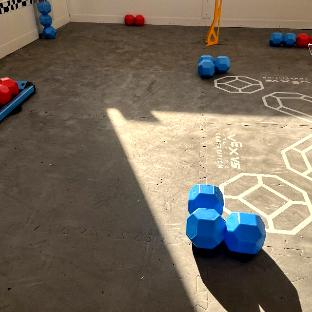V5_BLUE: (187, 208, 265, 254), (38, 0, 56, 38), (198, 56, 230, 76), (270, 33, 296, 46)
V5_RED: (0, 77, 19, 105), (296, 33, 310, 46), (135, 15, 144, 25), (125, 15, 134, 25)
